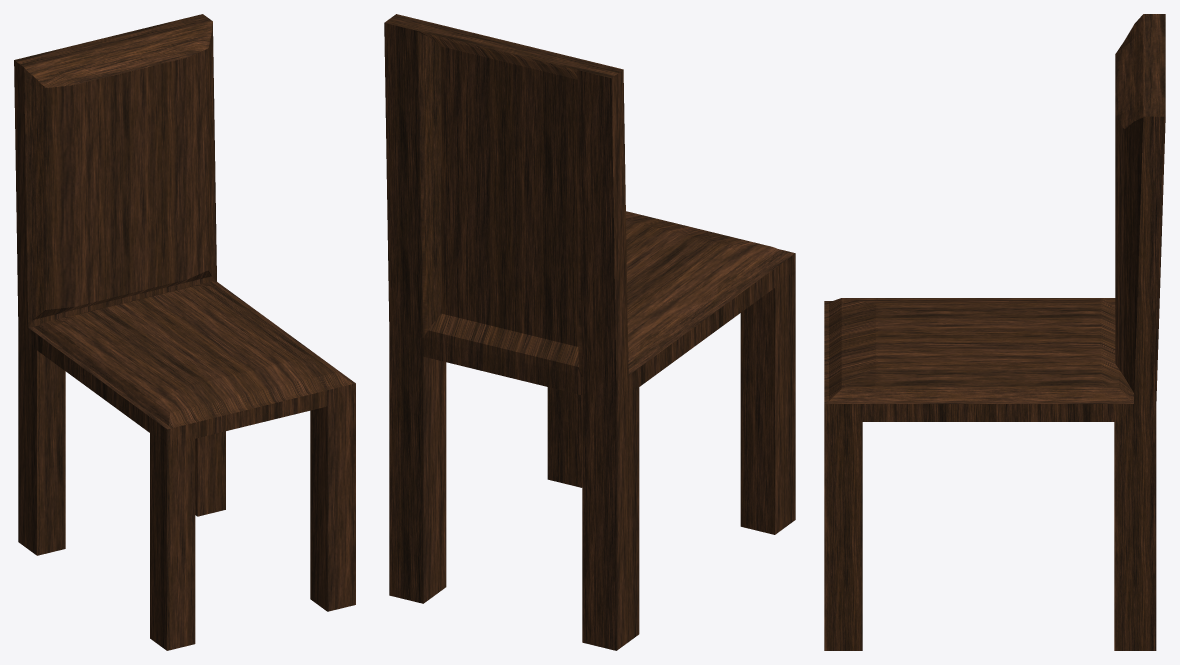
The model's file is Dining chair.fbx.
3 views of the same model, side by side, from view 1: azimuth 30°, elevation 25°; view 2: azimuth 150°, elevation 25°; view 3: azimuth 270°, elevation 25° (orthographic). The views are drawn at different scales.
Parts seen in each view (by area): view 1: DiningRoomChair; view 2: DiningRoomChair; view 3: DiningRoomChair.
Part boxes in pixels (x1=…): DiningRoomChair: x1=14, y1=14, x2=355, y2=650; DiningRoomChair: x1=384, y1=14, x2=795, y2=650; DiningRoomChair: x1=824, y1=14, x2=1165, y2=650.
Bounding box in the file's own units: 1.77 × 4.28 × 2.48.
Materials: 1 (1 with a texture image).
